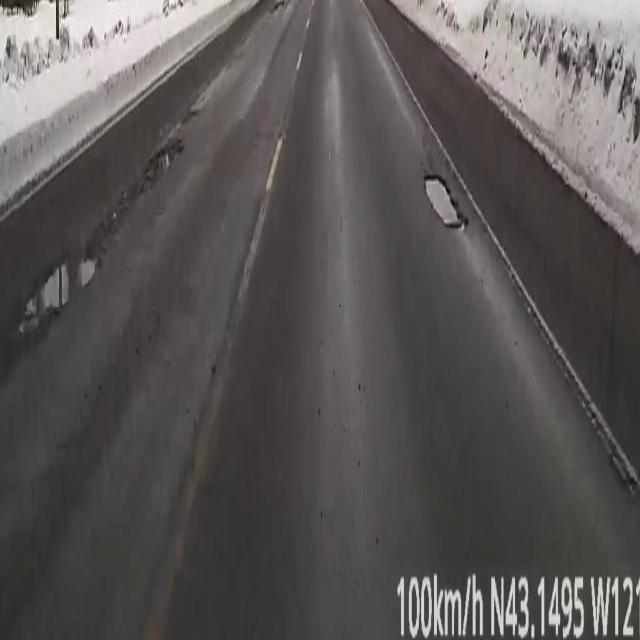pothole: (19, 254, 73, 332), (423, 174, 468, 232), (146, 136, 184, 180), (74, 255, 98, 293), (0, 368, 22, 403)
